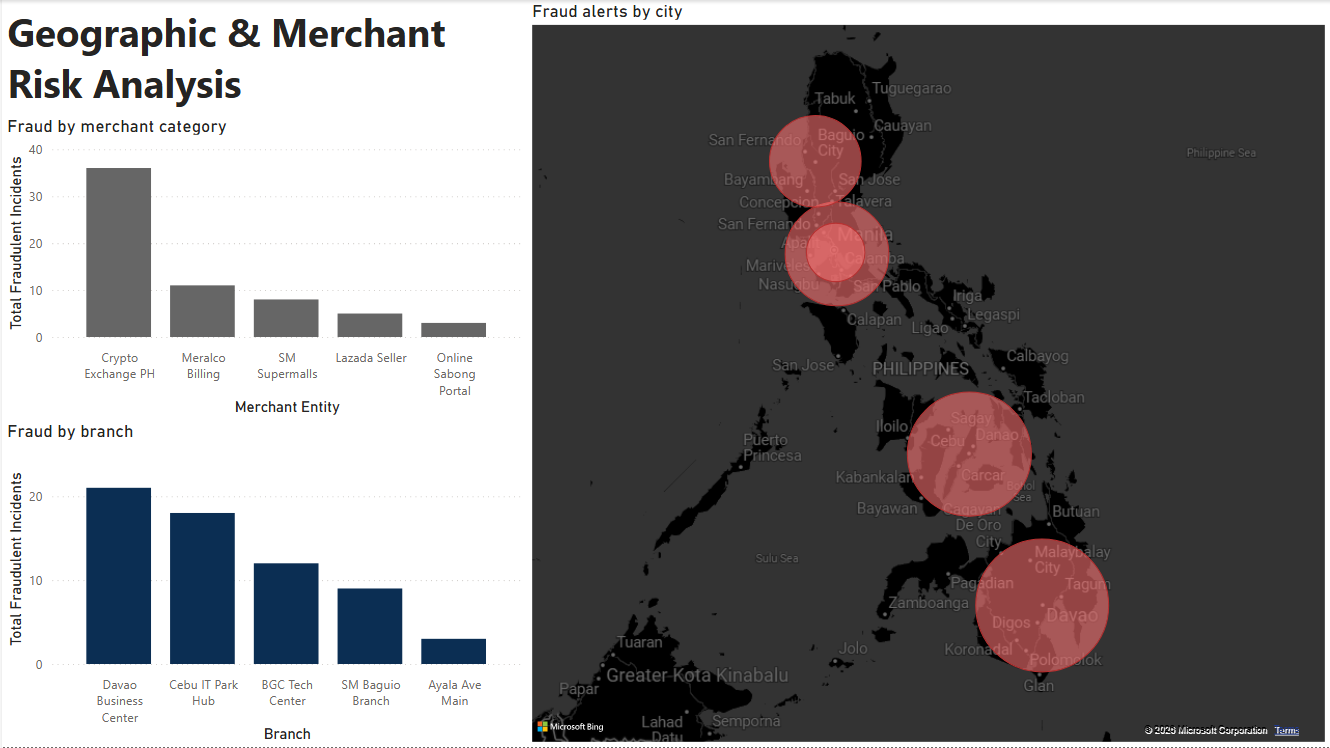

The page's visual inventory and layout, read from the dashboard file:
{"tool":"powerbi","page":{"name":"Geographic & Merchant Risk Analysis","canvas":[1280,720],"ordinal":1},"visuals":[{"type":"map","title":"Fraud alerts by city","fields":{"Category":["dim_branches.branch_city"],"Size":["Sum(fact_transactions.fraud_flag)"]},"box":[505.6,0,774.4,720],"z":0},{"type":"columnChart","title":"Fraud by merchant category","fields":{"Category":["dim_merchant.merchant_name"],"Y":["Sum(fact_transactions.fraud_flag)"]},"box":[0,110.8,506,294],"z":1000},{"type":"columnChart","title":"Fraud by branch","fields":{"Y":["Sum(fact_transactions.fraud_flag)"],"Category":["dim_branches.branch_name"]},"box":[0,404.8,506,315.2],"z":3000},{"type":"textbox","box":[0,0,505.9,110.6],"z":4000}]}

Visuals, with their boxes in screenshot pixels (x1, y1, x2, y2), scaled from the page's 1280x720 canvas onto the 1330x748 screenshot:
"Fraud alerts by city" map: 525 0 1329 747
"Fraud by merchant category" columnChart: 0 115 526 421
"Fraud by branch" columnChart: 0 421 526 747
textbox: 0 0 526 115
